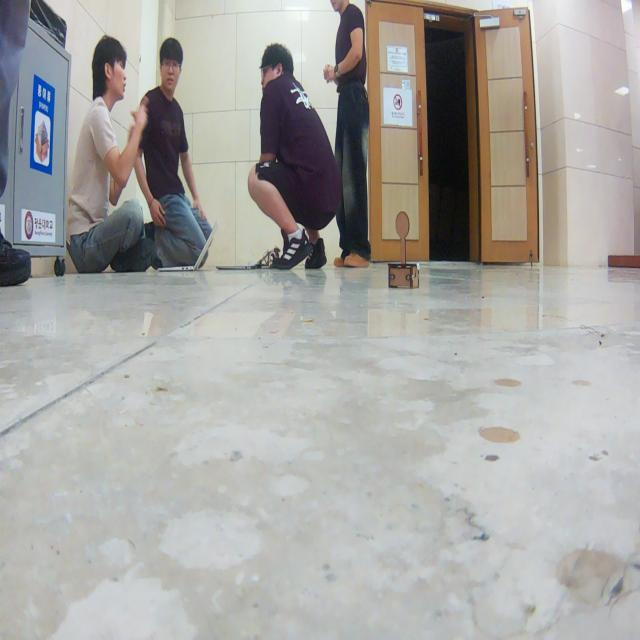target: (388, 210, 420, 290)
